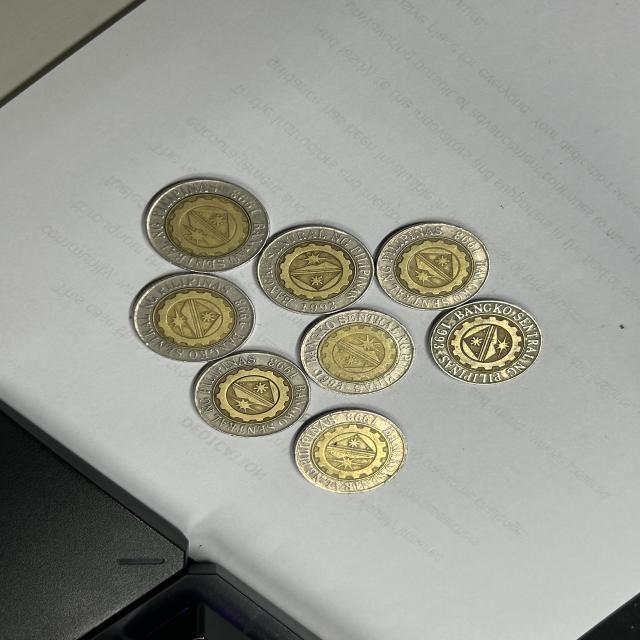10_Old_Back: (156, 180, 264, 268), (303, 412, 397, 494), (266, 227, 360, 306), (207, 360, 292, 440), (269, 233, 365, 303), (148, 276, 244, 346), (392, 228, 483, 301), (205, 360, 298, 430), (313, 315, 397, 391), (454, 309, 533, 374)
